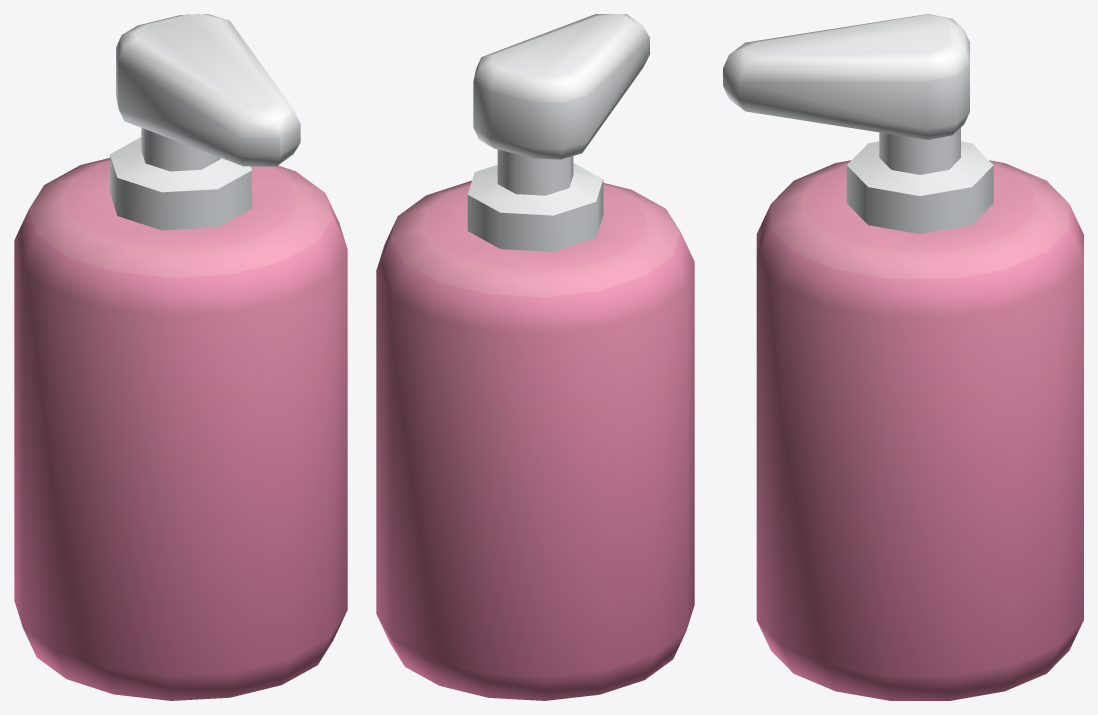
File: Container Bathroom D-8HoMtrtGcl.glb
3 renders of one model, left to right at view 1: azimuth 30°, elevation 25°; view 2: azimuth 150°, elevation 25°; view 3: azimuth 270°, elevation 25°, orthographic. The views are drawn at different scales.
Parts seen in each view (by area): view 1: container_bathroom_D_pink; view 2: container_bathroom_D_pink; view 3: container_bathroom_D_pink.
Part boxes in pixels (x1,y1,x2,y2): container_bathroom_D_pink: (14,14,347,700); container_bathroom_D_pink: (376,14,694,700); container_bathroom_D_pink: (723,14,1083,700).
Size of the model in its own units: 0.312 by 0.65 by 0.3445.
Materials: 1 (1 with a texture image).
